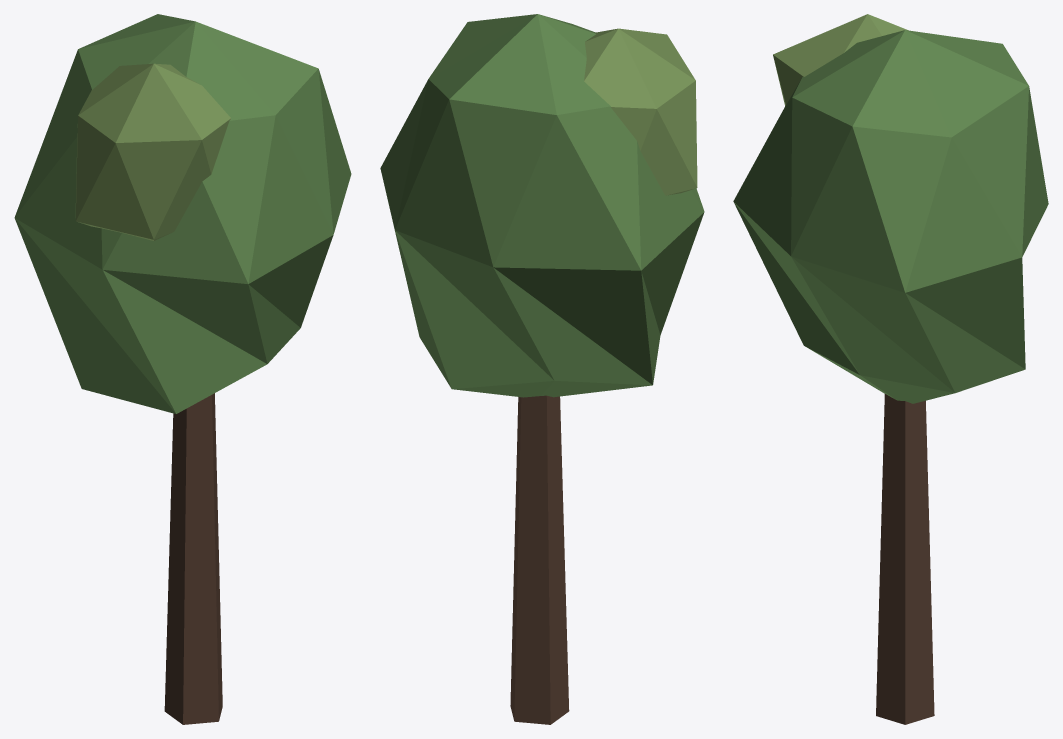
File: tree_aspen.glb
The picture shows the model from 3 angles, left to right: view 1: azimuth 30°, elevation 25°; view 2: azimuth 150°, elevation 25°; view 3: azimuth 270°, elevation 25°; orthographic projection. The views are drawn at different scales.
Visible parts, largest first — view 1: tree_aspen_Crown, tree_aspen; view 2: tree_aspen_Crown, tree_aspen; view 3: tree_aspen_Crown, tree_aspen.
Boxes of the visible parts, x1,y1,x2,y2 form: tree_aspen_Crown: (14,14,351,413); tree_aspen: (164,393,222,724); tree_aspen_Crown: (380,14,704,397); tree_aspen: (510,395,569,724); tree_aspen_Crown: (733,14,1048,403); tree_aspen: (876,394,934,724).
Bounding box in the file's own units: 1.43 × 3.17 × 1.33.
